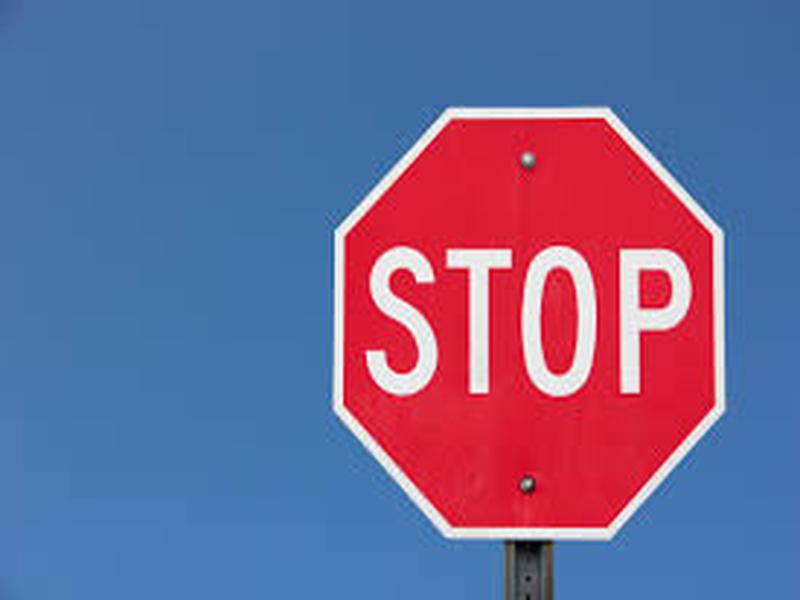stop: (324, 97, 734, 555)
